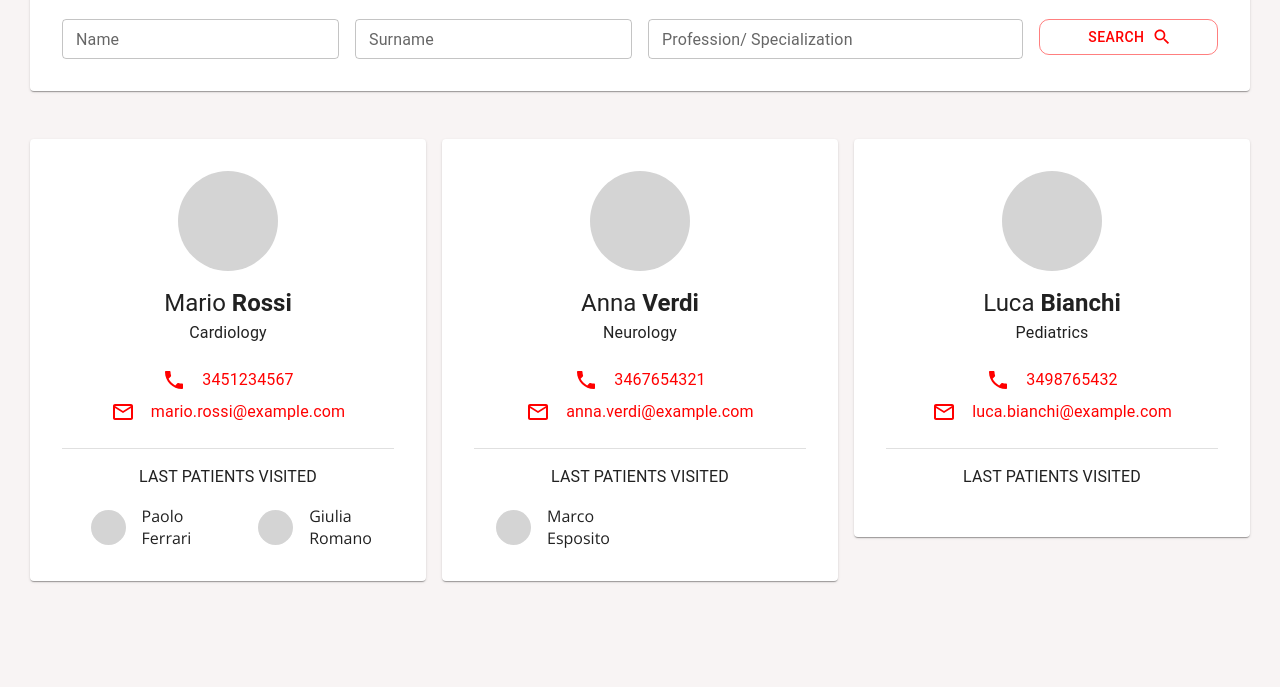
Scenario: Doctors feature tests › should navigate to doctor details when clicking on a doctor
(page scrolled)
// Click on the doctor item
Click the element with test id "doctor-item" that starts with "Mario".
click(228, 361)  # box [30,139,426,582]
(page scrolled)
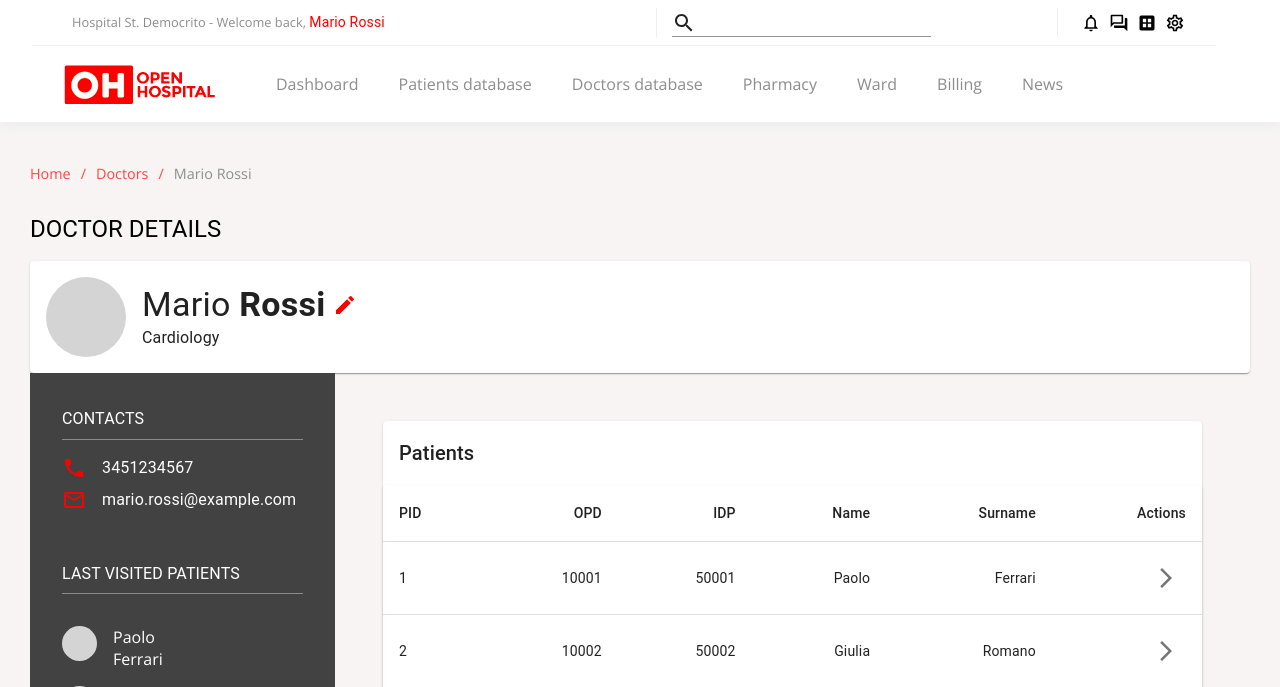
Expected: the heading "Doctor details" is shown, [30,213,221,245]
